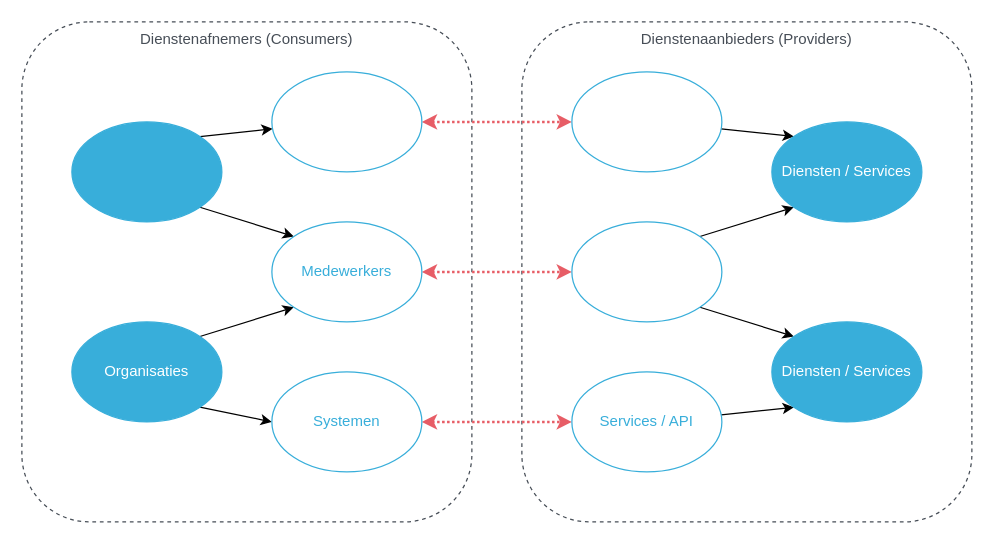
The diagram is 994 pixels wide and 544 high, and some of its shapes have lost their labels. Here are the shapes that lost their labels. From the top down, the centre of each, then its label:
point 346,121: Burgers
point 646,121: Portaal / app
point 146,171: Personen
point 646,271: Voorziening / Applicatie
